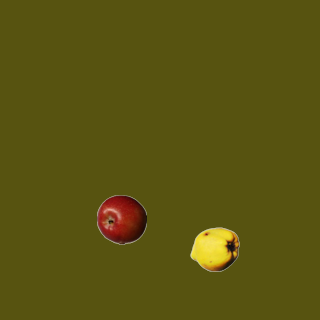Apple Braeburn: (96, 194, 146, 244)
Quince: (189, 224, 239, 274)
